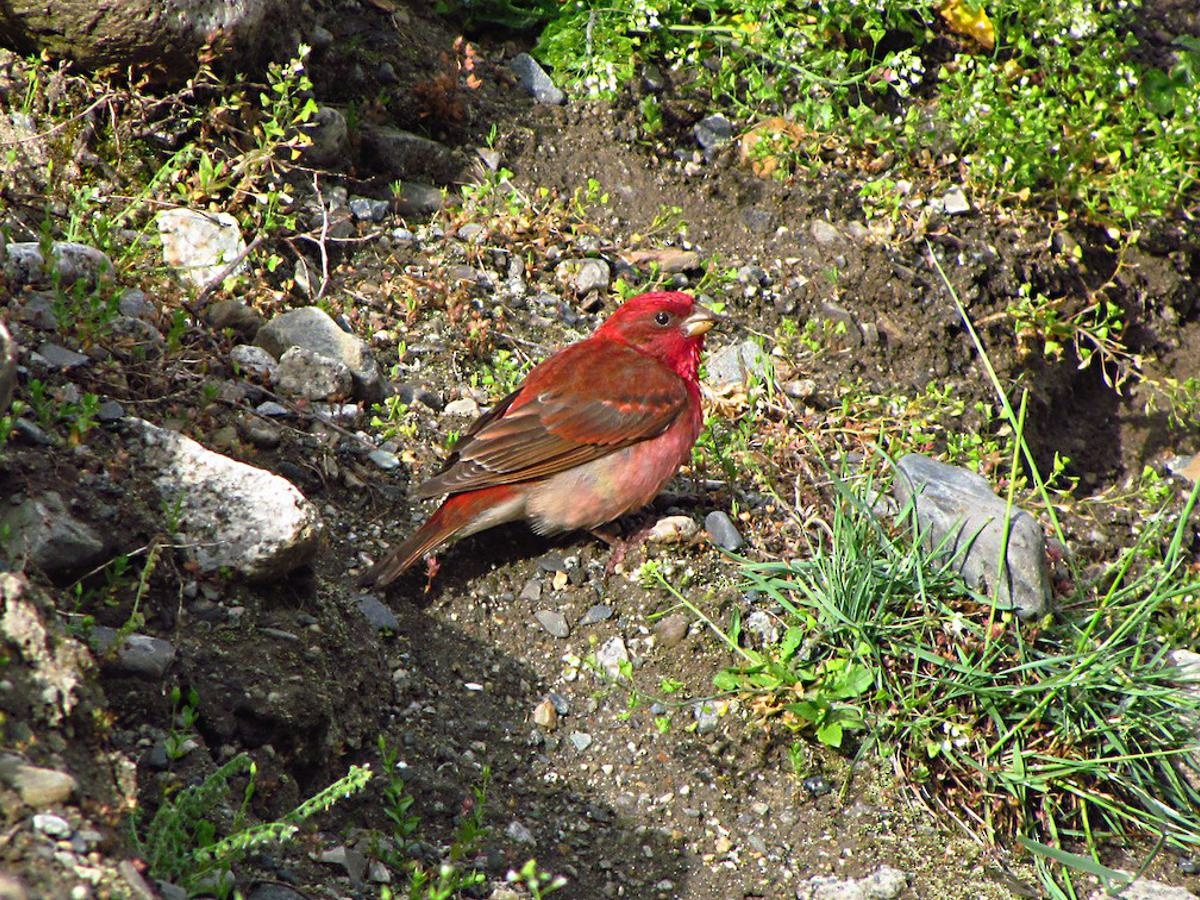rosefinch: (435, 285, 725, 580)
